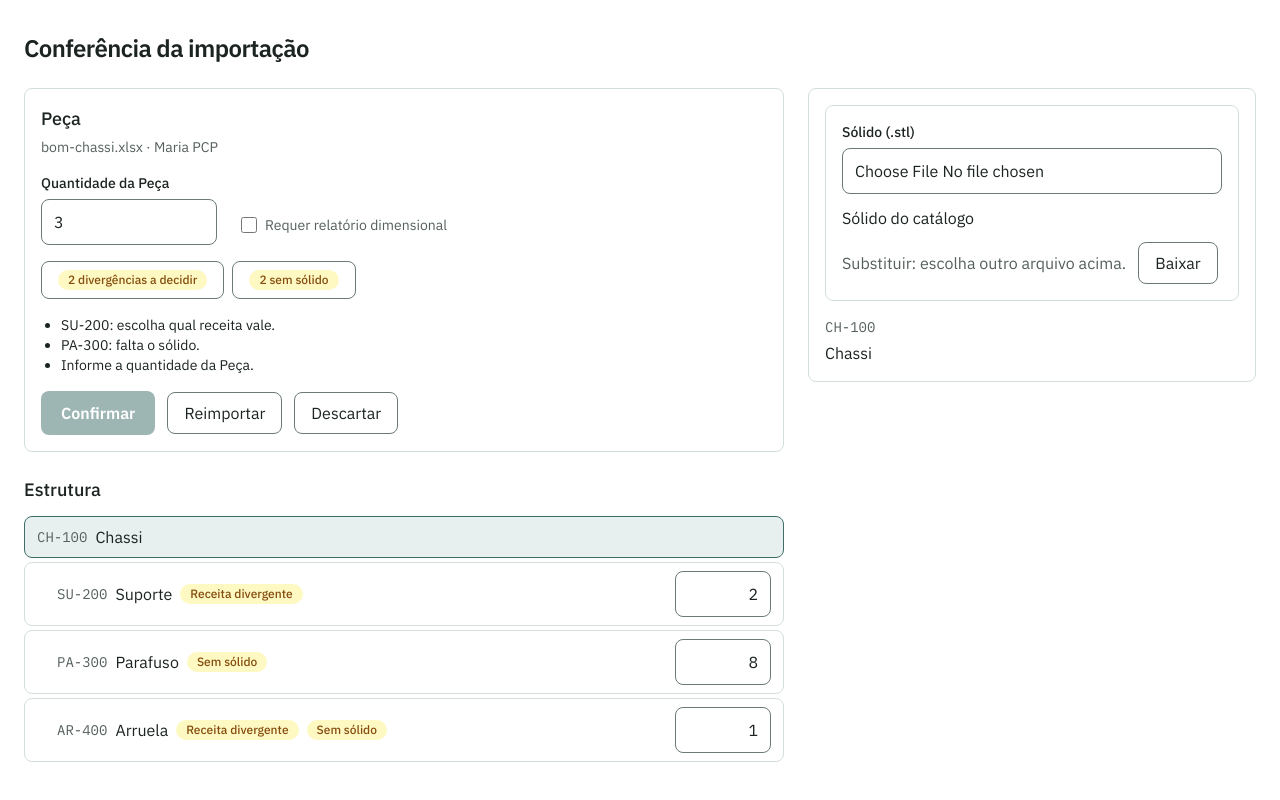
Test: ConferenciaDeImportacaoPage › mostra a árvore e o painel do componente selecionado, a raiz de início
The image size is (1280, 800).
Expected: the button "SU-200 Suporte" is shown, [57, 582, 172, 606]
Expected: the text "CH-100" below "Substituir: escolha outro arquivo acima." is shown, [825, 318, 875, 336]
Step 1. Click the button "PA-300 Parafuso" → click(118, 662), box [57, 650, 179, 674]
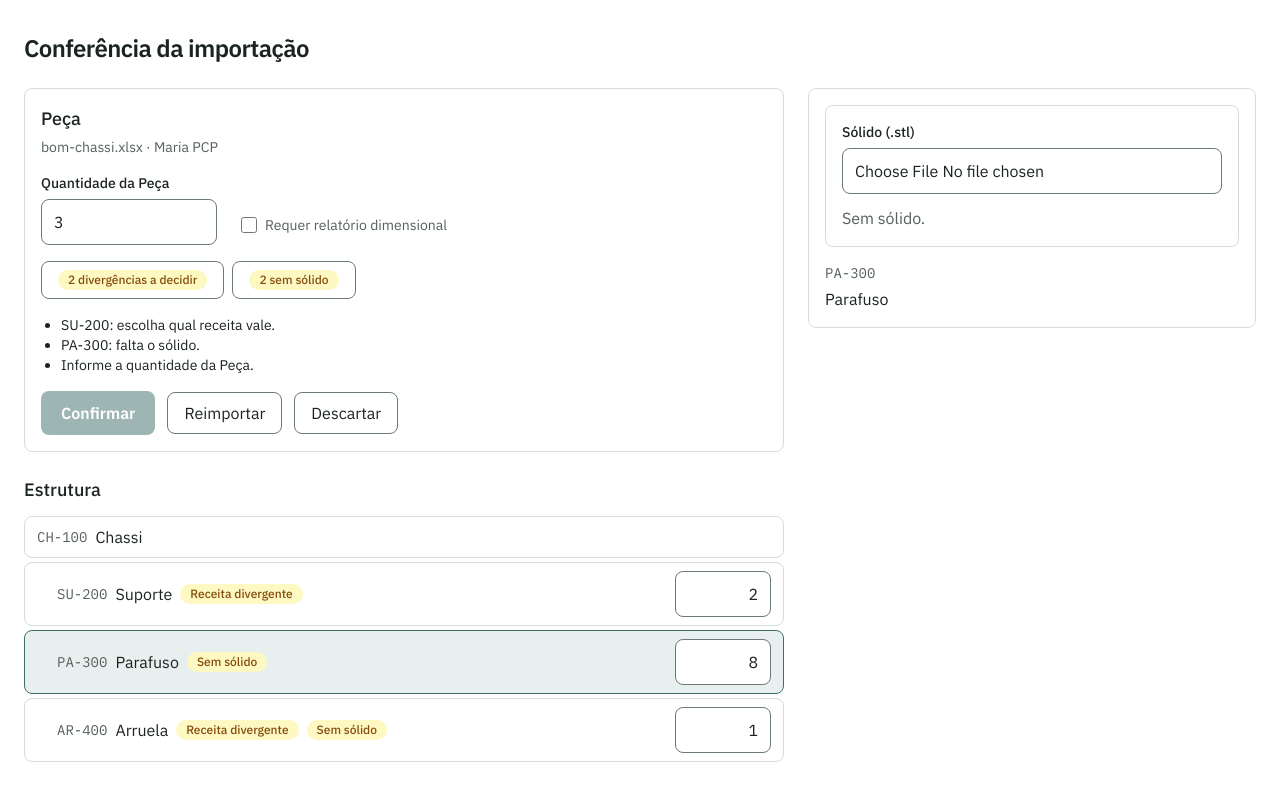
Result: the text "PA-300" below "Sem sólido." is shown at [825, 264, 875, 282]
Result: the text "Parafuso" below "Sem sólido." is shown at [825, 289, 888, 309]
